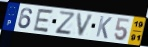5: (114, 17, 131, 42)
6: (17, 7, 33, 30)
E: (32, 8, 55, 34)
K: (95, 15, 114, 40)
V: (76, 12, 96, 38)
Z: (54, 10, 76, 35)
